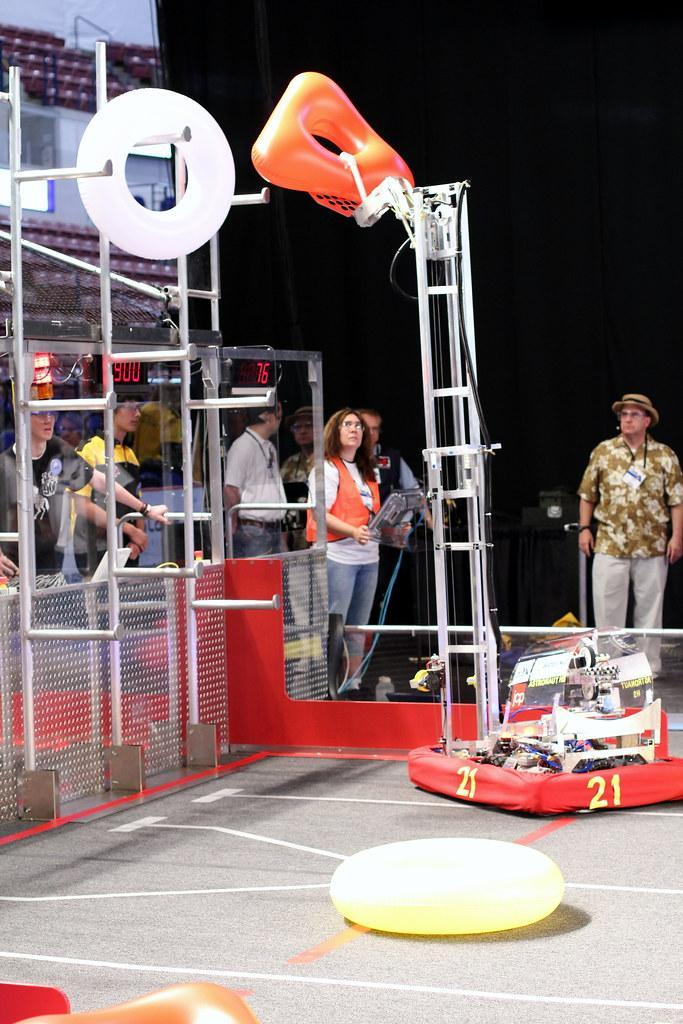robot: (398, 180, 683, 822)
